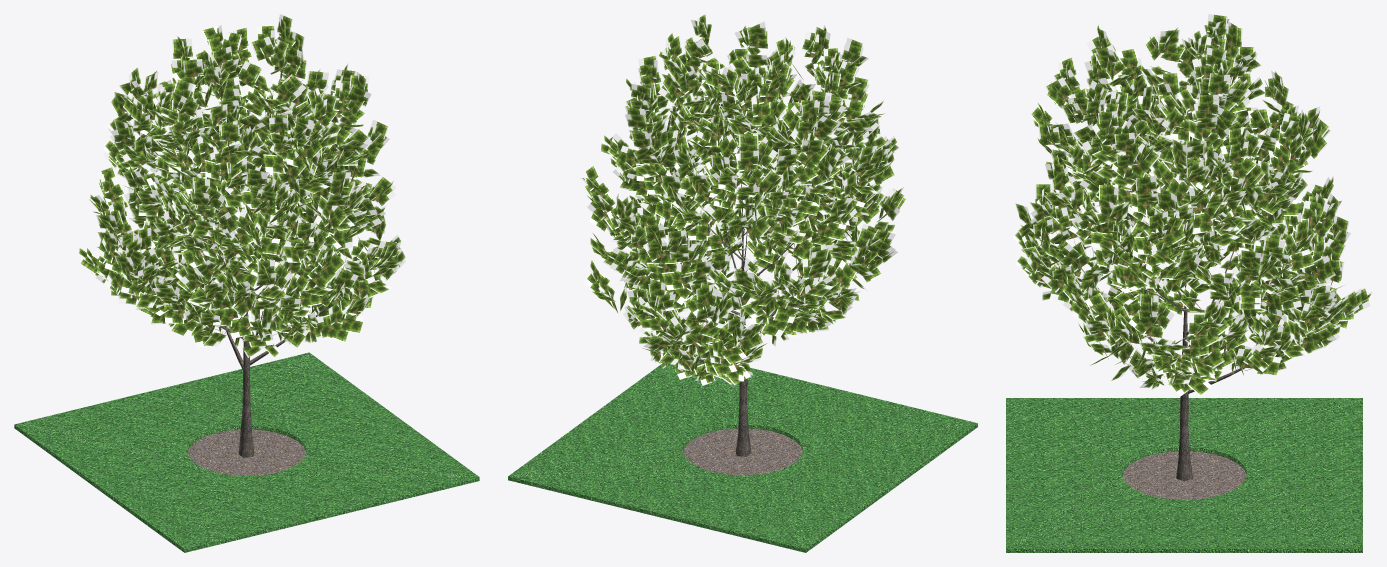
The model's file is maple.glb.
3 renders of one model, left to right at view 1: azimuth 30°, elevation 25°; view 2: azimuth 150°, elevation 25°; view 3: azimuth 270°, elevation 25°, orthographic. The views are drawn at different scales.
Parts seen in each view (by area): view 1: Material2 (×4); view 2: Material2 (×4); view 3: Material2 (×4).
Part boxes in pixels (x1,y1,x2,y2): Material2 (×4): (14,14,479,552); Material2 (×4): (508,14,977,552); Material2 (×4): (1006,14,1372,552).
Size of the model in its own units: 242 by 325 by 247.
Materials: 4 (4 with a texture image).
